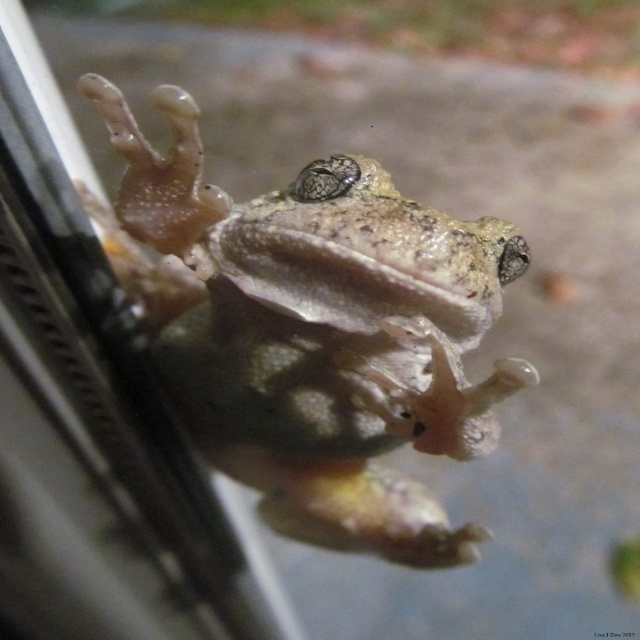Frog: (71, 71, 537, 573)
